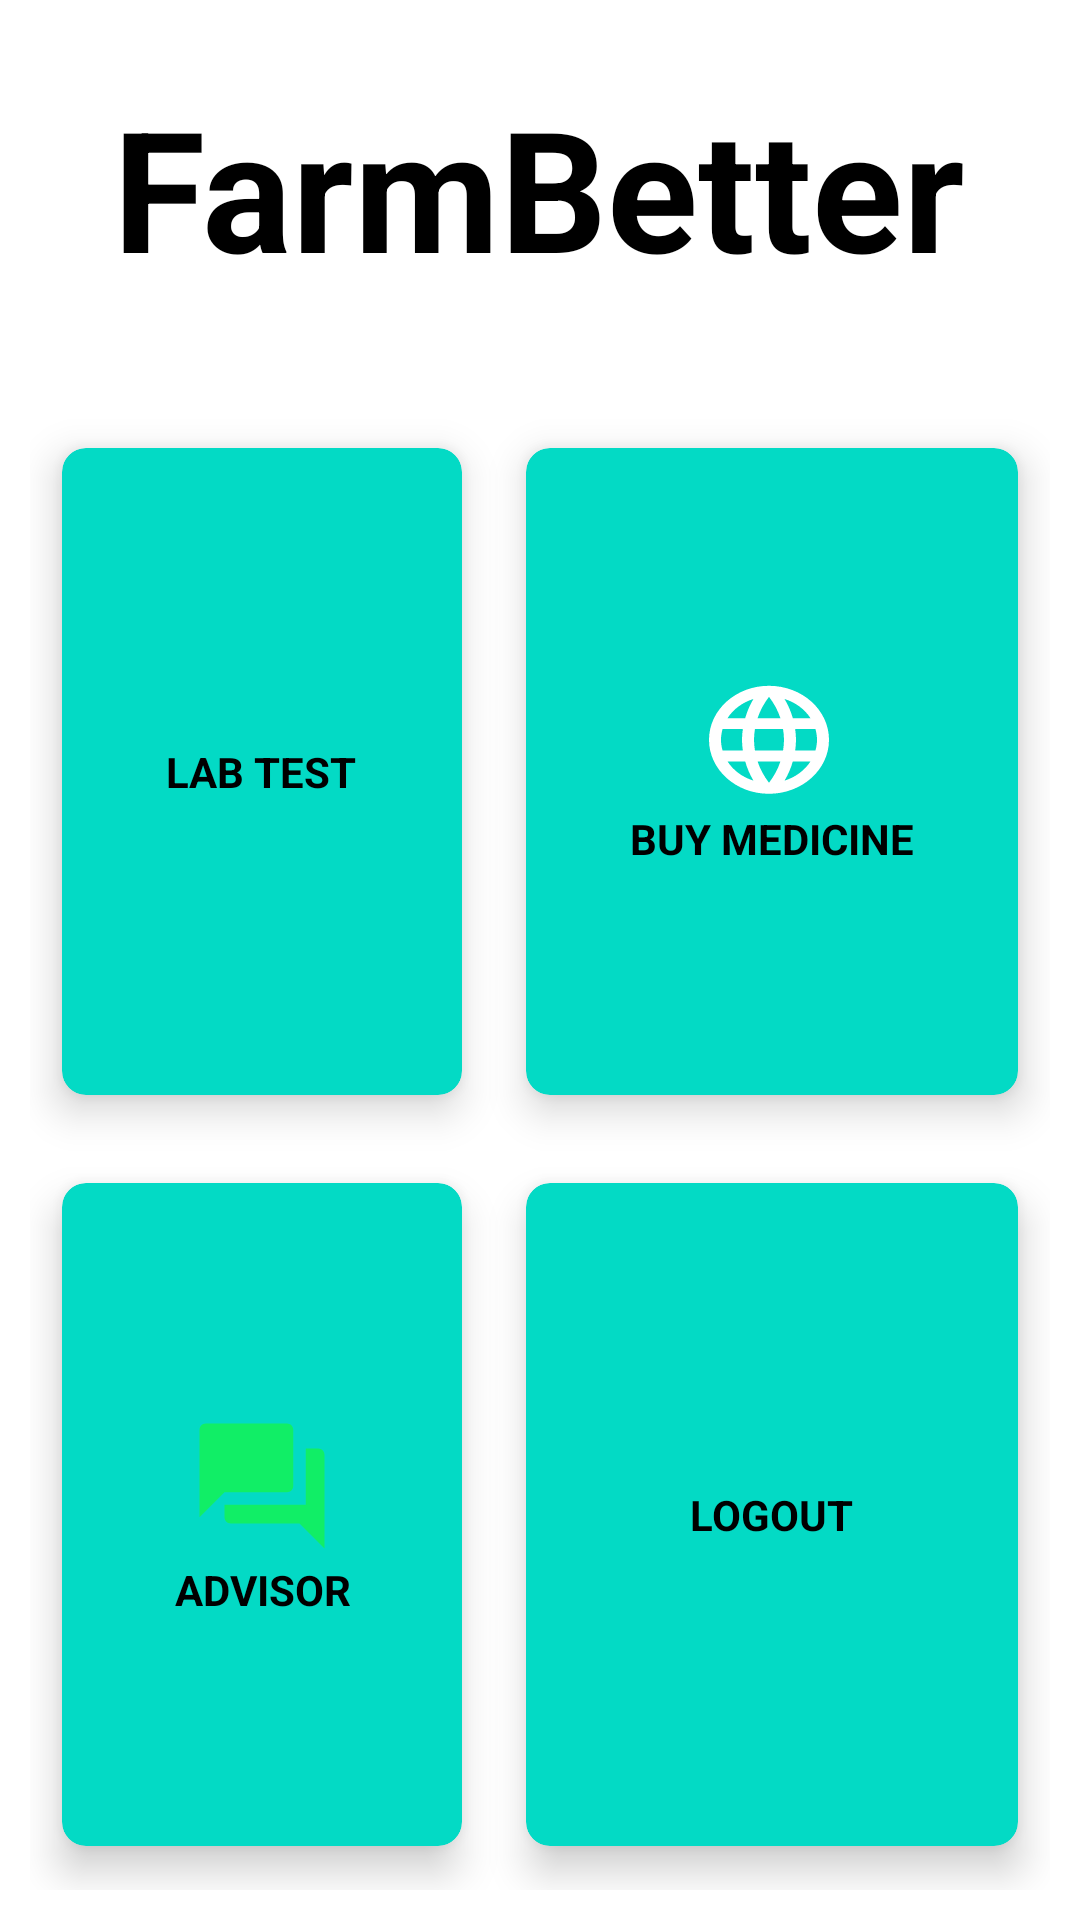

Point at icon controls on the screen. Image size 1080px×1920px, points as (x=x, y=y).
chat: (x=262, y=1485)
language: (x=769, y=739)
